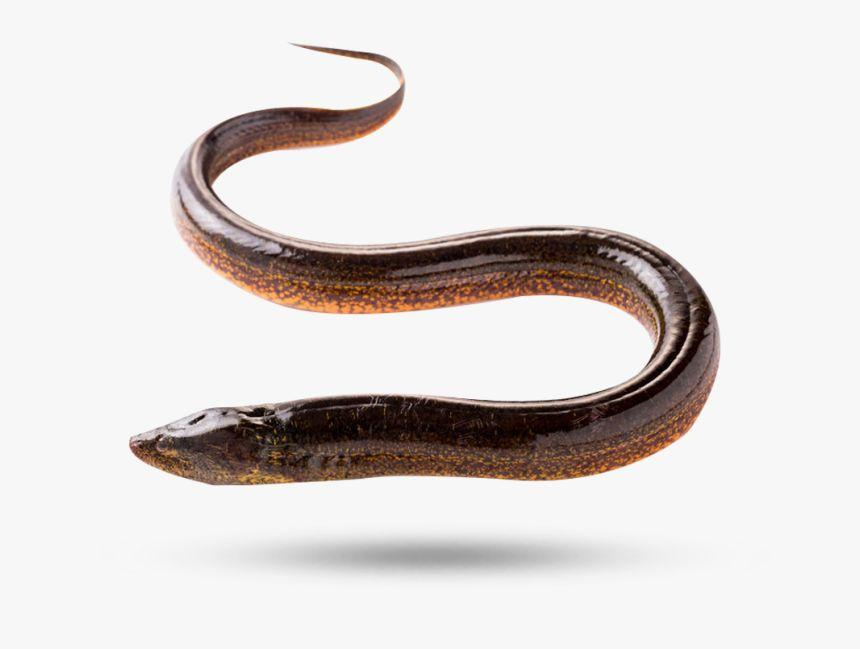Freshwater Eel: (126, 40, 717, 508)
